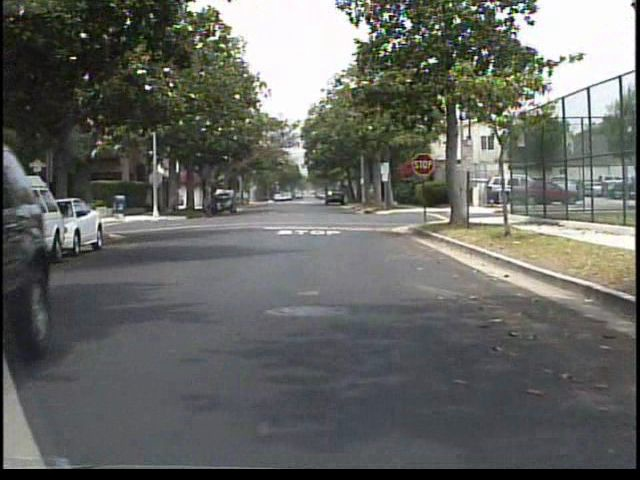person: (202, 177, 226, 219)
